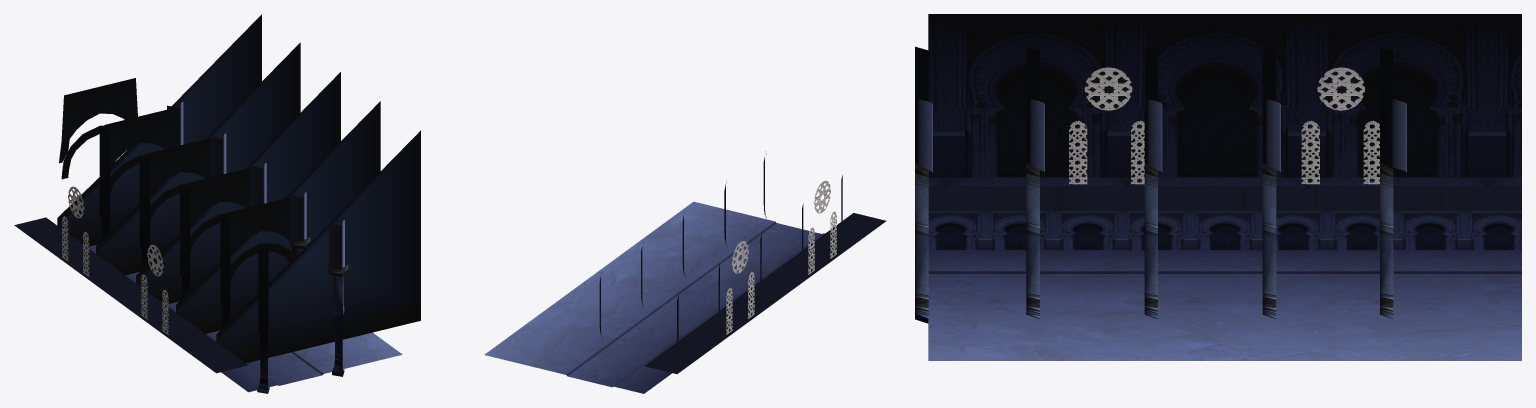
The model's file is NPBossLOD.gltf.
3 renders of one model, left to right at view 1: azimuth 30°, elevation 25°; view 2: azimuth 150°, elevation 25°; view 3: azimuth 270°, elevation 25°, orthographic. The views are drawn at different scales.
Parts seen in each view (by area): view 1: LightRays, LOD; view 2: LOD; view 3: LOD.
Boxes of the visible parts, bbox=[...] form: LightRays: bbox=[57, 14, 420, 363]; LOD: bbox=[14, 78, 402, 393]; LOD: bbox=[484, 151, 886, 393]; LOD: bbox=[915, 14, 1521, 360].
Bounding box in the file's own units: 58.82 × 46.65 × 89.98.
Materials: 11 (10 with a texture image).
